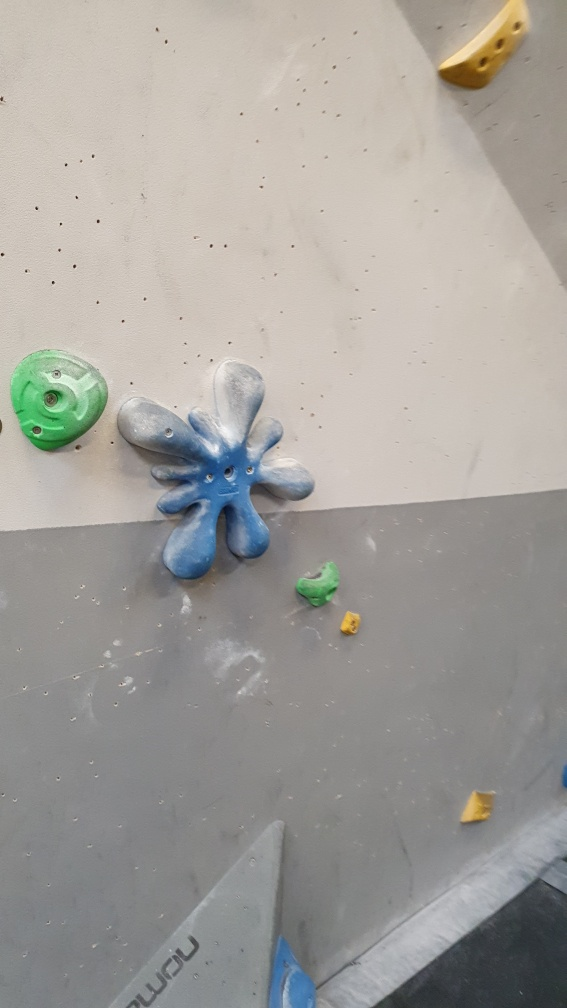Jug: (3, 345, 112, 462), (295, 555, 342, 613)
Octopus Pinch: (116, 355, 319, 585)
Sloper: (269, 937, 321, 1007)
